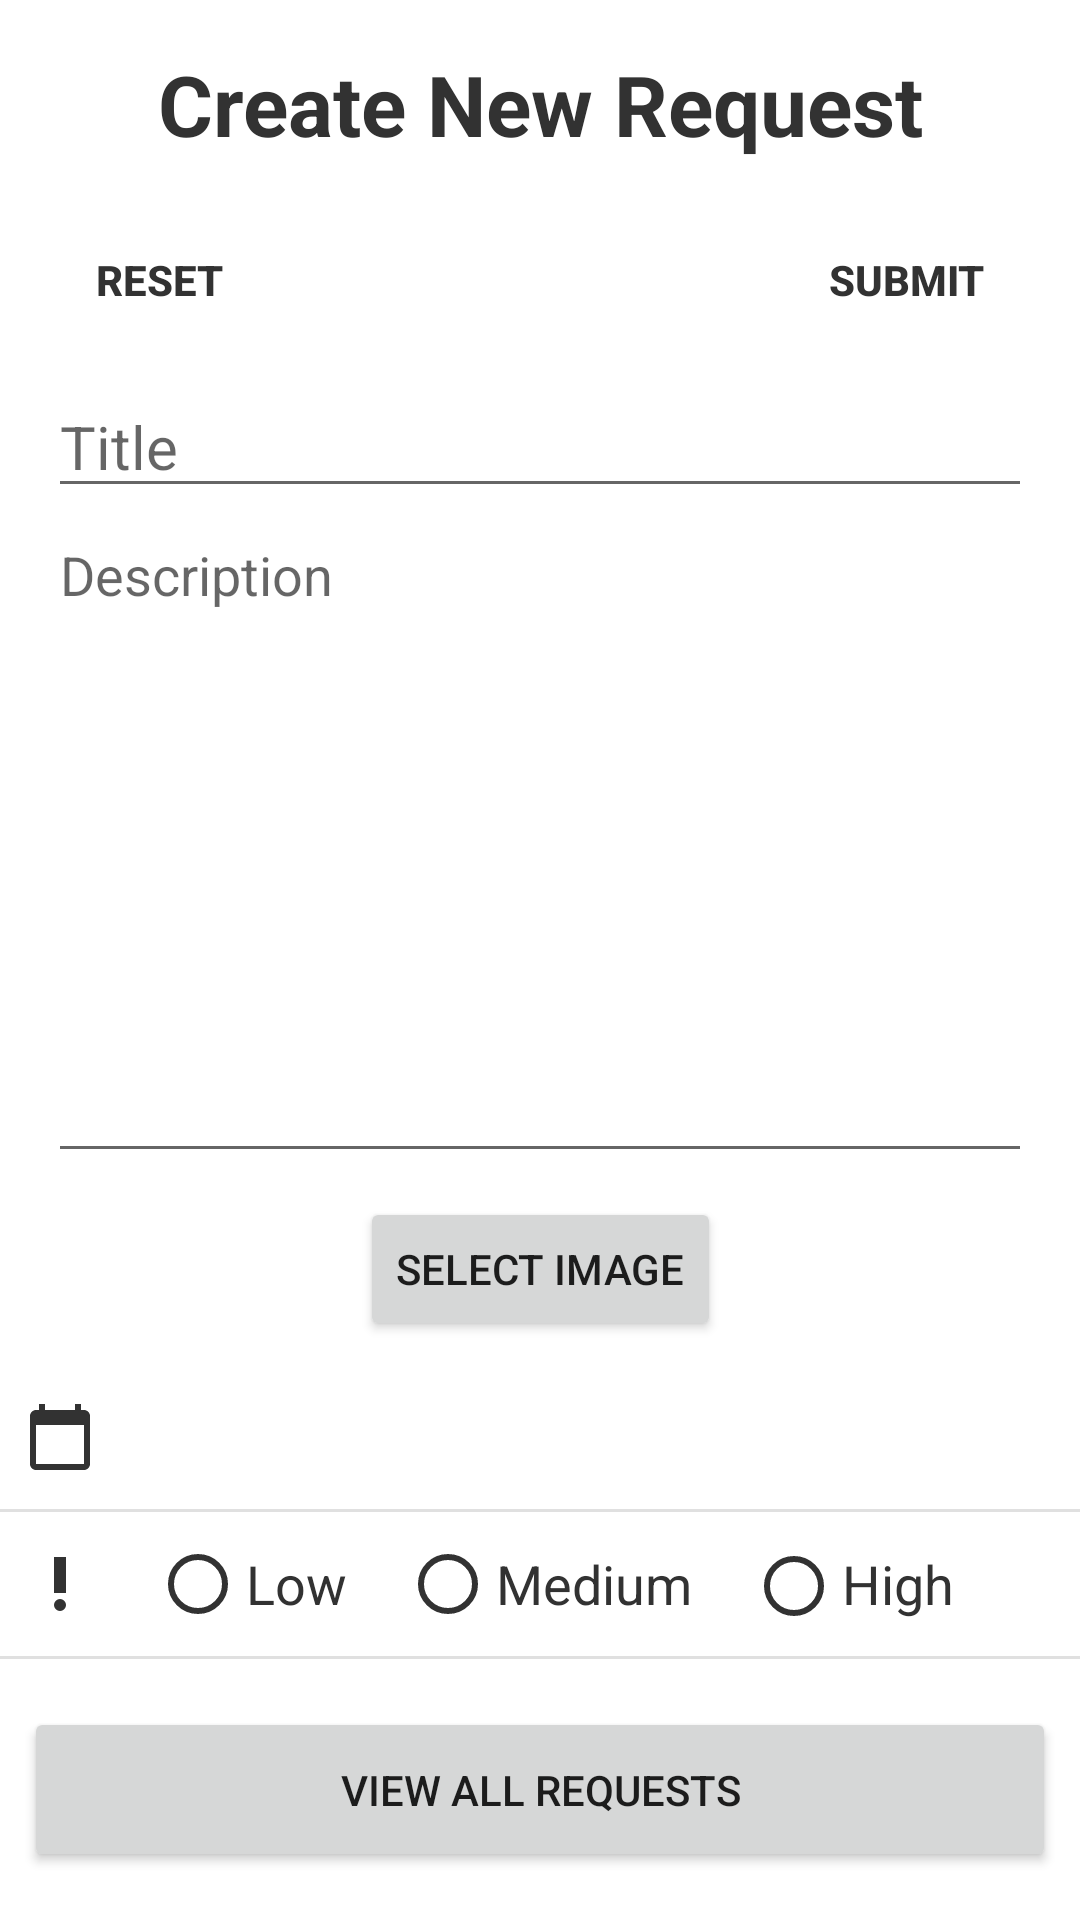

Screen size 1080px x 1920px. Icon name, then its box in pixels as region(x1, y1, x2, y2):
calendar today: region(30, 1404, 90, 1470)
priority high: region(54, 1557, 66, 1611)
